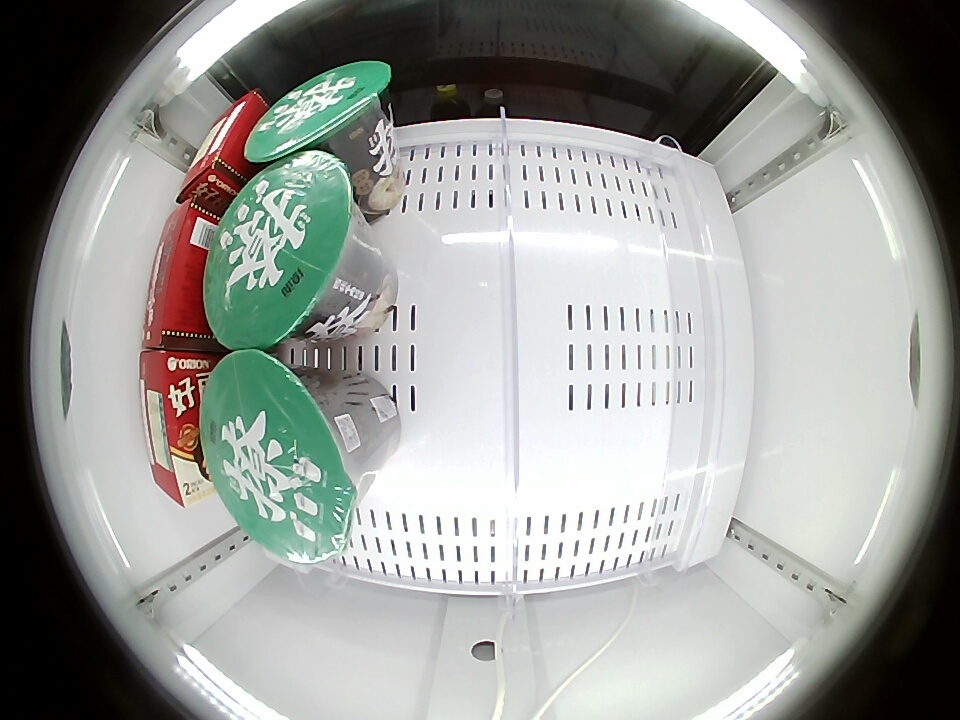haoliyou: (141, 350, 214, 507), (143, 199, 220, 346), (176, 91, 266, 204)
liaomian: (200, 352, 356, 568), (202, 149, 357, 351), (246, 61, 390, 167)
